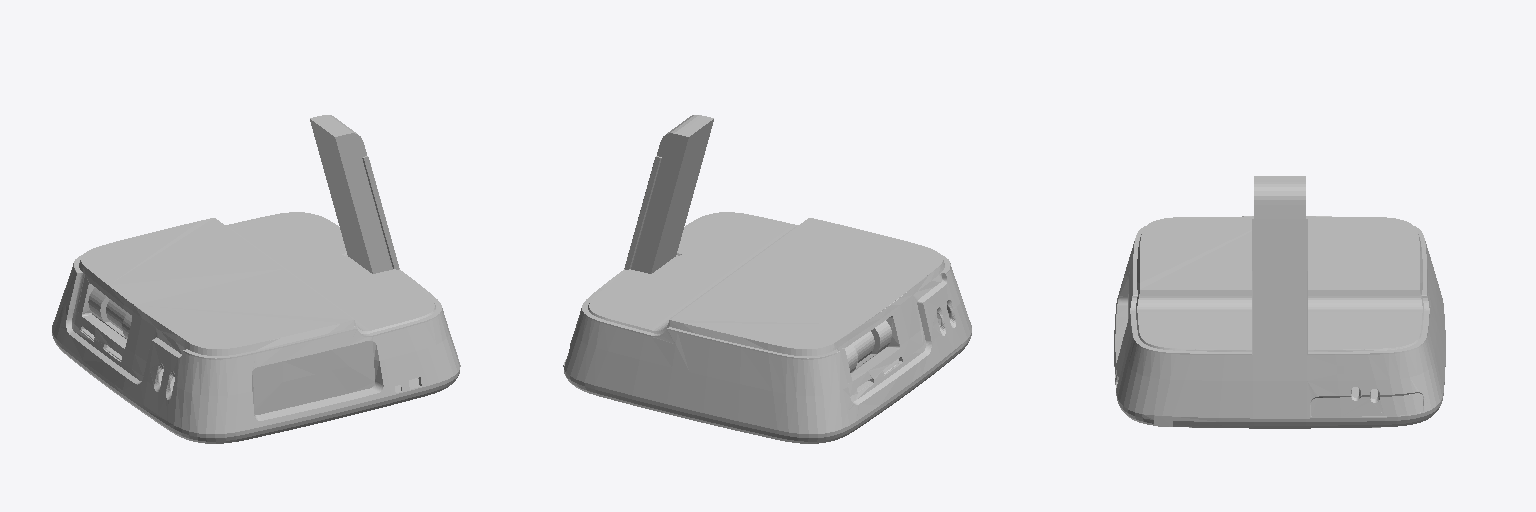
File: bottom.obj
The picture shows the model from 3 angles: view 1: azimuth 30°, elevation 25°; view 2: azimuth 150°, elevation 25°; view 3: azimuth 270°, elevation 25°; orthographic projection.
Visible parts, largest first — view 1: Body_low; view 2: Body_low; view 3: Body_low.
Boxes of the visible parts, <box> form: Body_low: <box>52,115,460,443</box>; Body_low: <box>563,115,971,443</box>; Body_low: <box>1114,176,1445,428</box>.
Size of the model in its own units: 42 by 31.3 by 41.99.